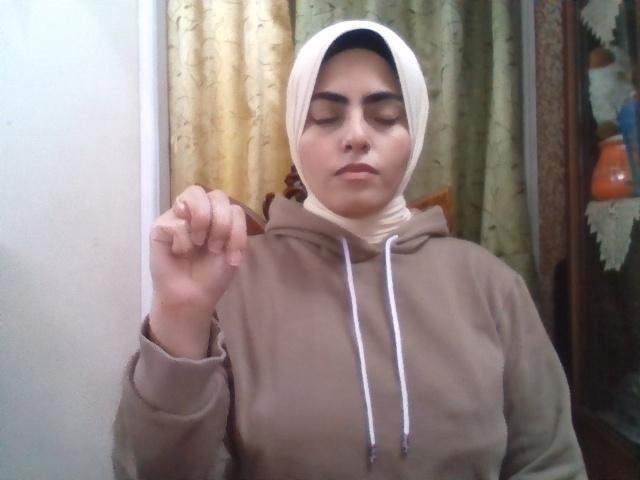M: (149, 186, 247, 315)
